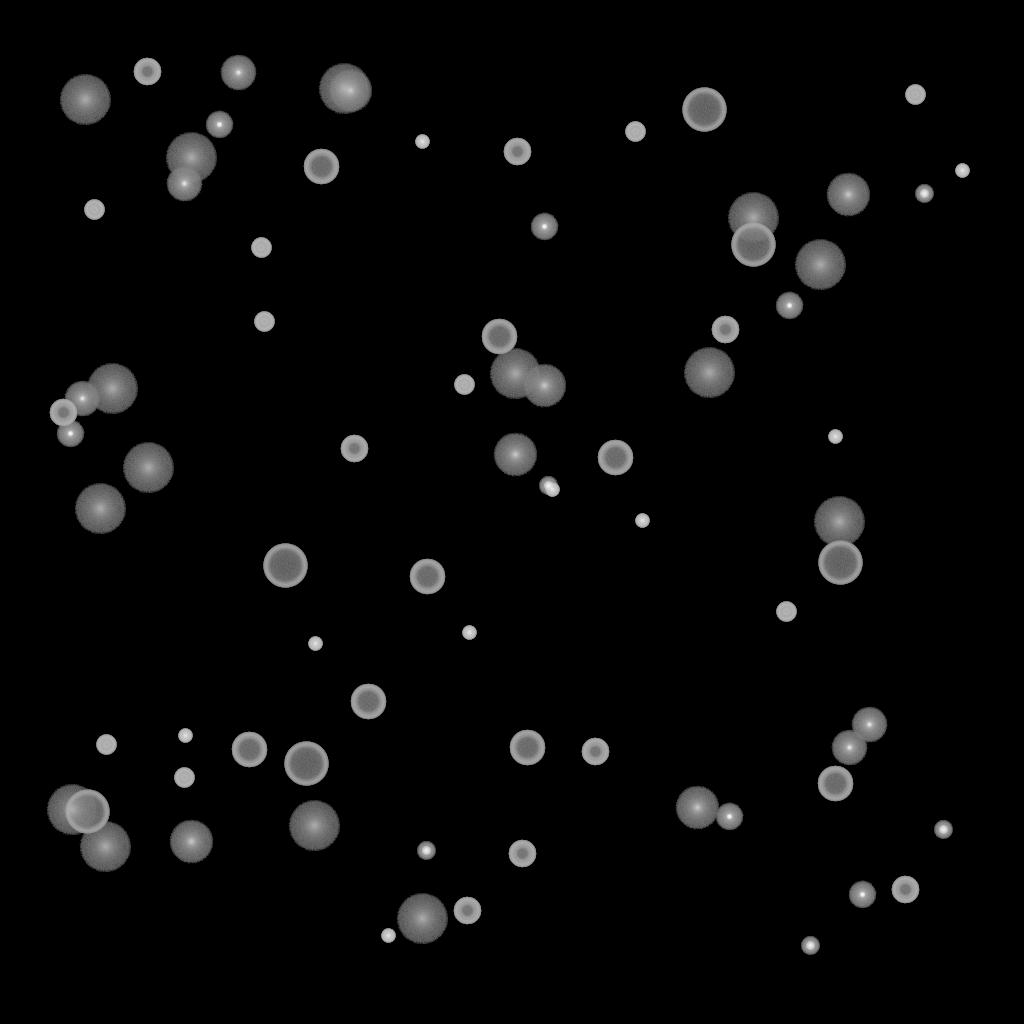depth:-10: (848, 881, 876, 909), (56, 420, 84, 448), (530, 213, 558, 241), (715, 803, 743, 831), (205, 111, 233, 139), (775, 292, 803, 320)
depth:-20: (801, 937, 819, 955), (539, 477, 557, 495), (934, 821, 952, 839), (417, 842, 435, 860), (915, 185, 933, 203)
depth:-30: (828, 430, 842, 444), (415, 135, 429, 149), (462, 626, 476, 640), (545, 483, 559, 497), (381, 929, 395, 943), (178, 729, 192, 743), (955, 164, 969, 178), (308, 637, 322, 651), (635, 514, 649, 528)
depth:-40: (254, 312, 274, 332), (625, 122, 645, 142), (776, 602, 796, 622), (84, 200, 104, 220), (251, 238, 271, 258), (96, 735, 116, 755), (905, 85, 925, 105), (174, 768, 194, 788), (454, 375, 474, 395)
depth:-50: (711, 316, 739, 344), (133, 58, 161, 86), (508, 840, 536, 868), (453, 897, 481, 925), (891, 876, 919, 904), (581, 738, 609, 766), (503, 138, 531, 166), (340, 435, 368, 463), (49, 399, 77, 427)
depth:-60: (350, 684, 386, 720), (481, 319, 517, 355), (231, 732, 267, 768), (597, 440, 633, 476), (409, 559, 445, 595), (303, 149, 339, 185), (817, 766, 853, 802), (509, 730, 545, 766)
depth:-70: (284, 742, 328, 786), (731, 223, 775, 267), (818, 541, 862, 585), (65, 790, 109, 834), (263, 544, 307, 588), (682, 88, 726, 132)
depth:0: (220, 55, 256, 91), (64, 381, 100, 417), (166, 166, 202, 202), (831, 730, 867, 766), (851, 707, 887, 743)
depth:10: (826, 173, 870, 217), (675, 786, 719, 830), (522, 364, 566, 408), (328, 69, 372, 113), (493, 433, 537, 477), (169, 820, 213, 864)
depth:20: (79, 822, 131, 872), (288, 801, 340, 851), (727, 193, 779, 243), (74, 484, 126, 534), (683, 348, 735, 398), (396, 894, 448, 944), (794, 240, 846, 290), (59, 75, 111, 125), (122, 443, 174, 493), (813, 497, 865, 547), (489, 349, 541, 399), (46, 785, 98, 835), (318, 64, 370, 114), (165, 133, 217, 183), (86, 364, 138, 414)
